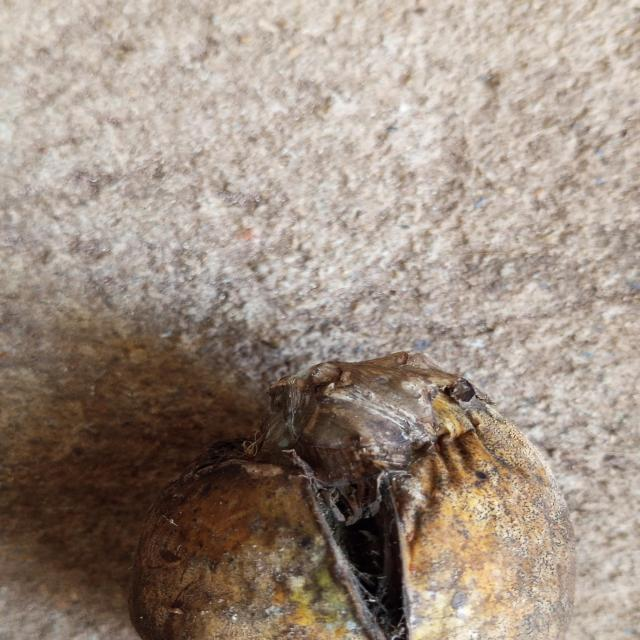damaged: (124, 355, 576, 640)
